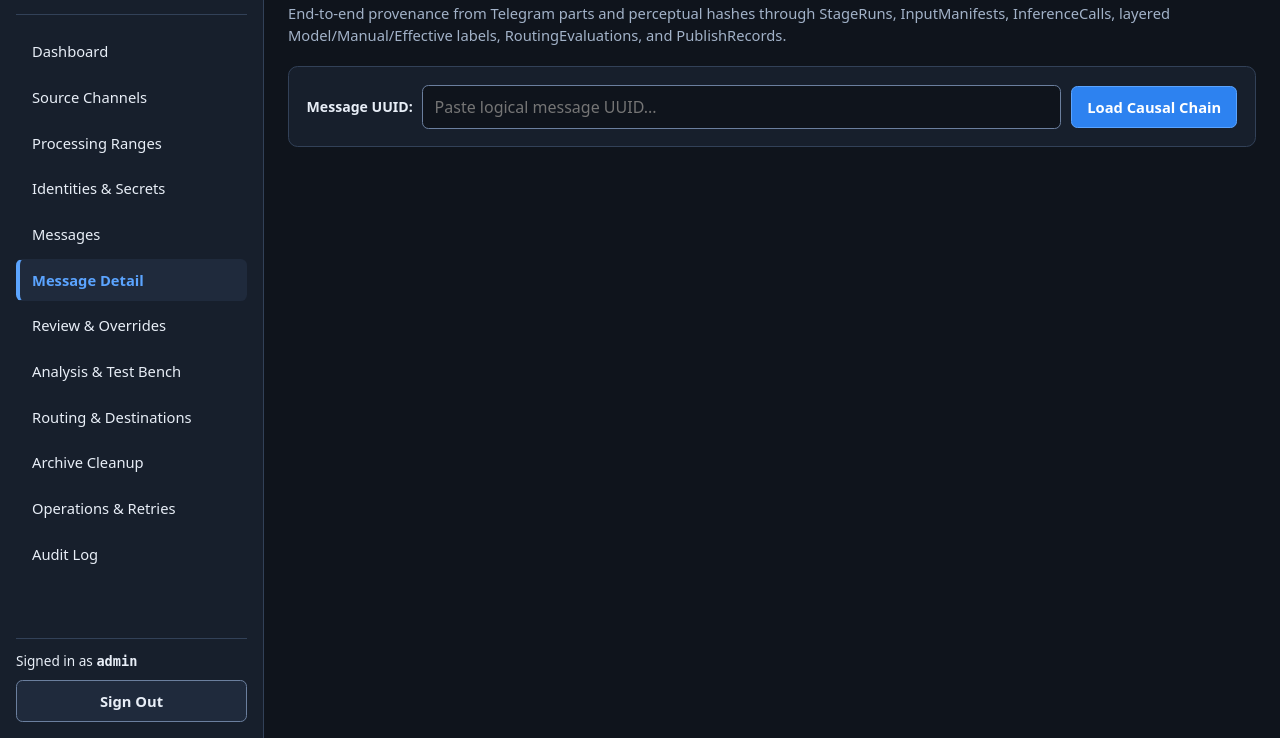
Test: Phase 2 Web & API Hardening Coverage › MessageDetailWorkspace performs a single detail fetch on lookup in App and disables Skip for processed messages
Type "00000000-0000-0000-0000-000000000001" into the field labelled "Message UUID:" at (742, 107), box [422,85,1061,129]
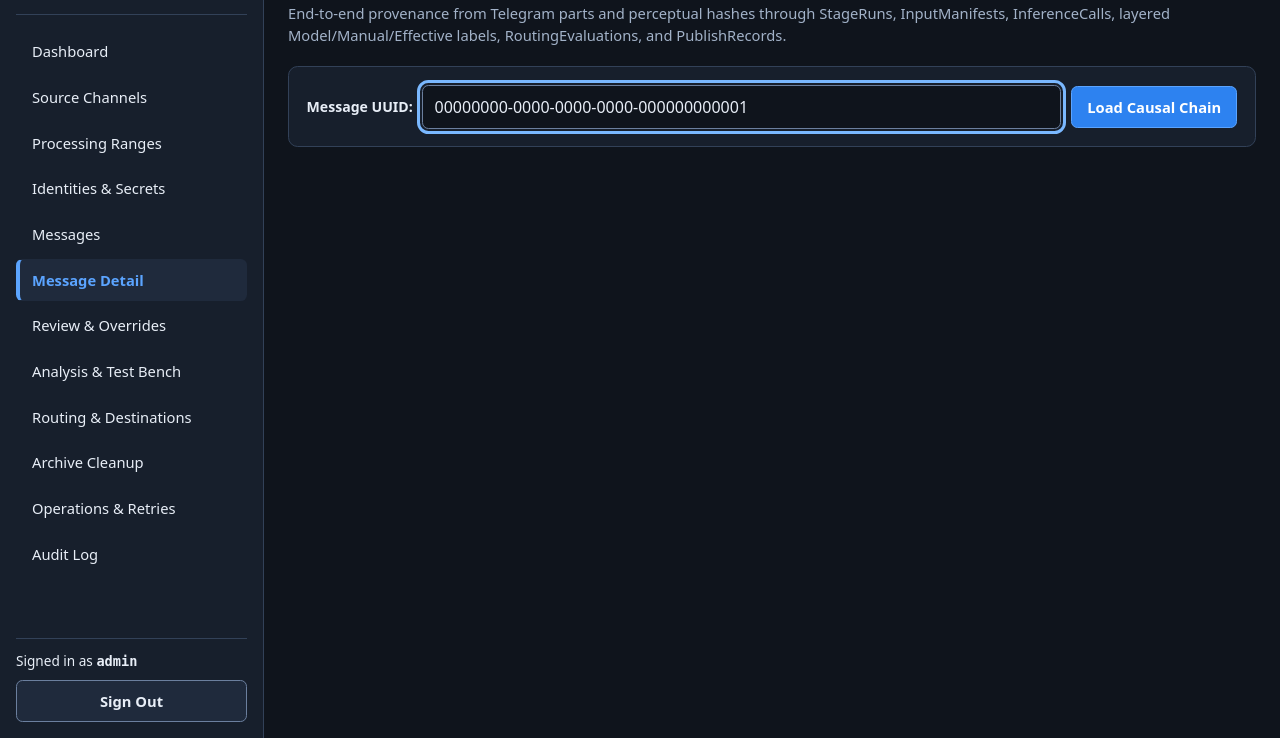
Click the button "Load Causal Chain" at (1154, 107), box [1071,86,1237,128]
(page scrolled)
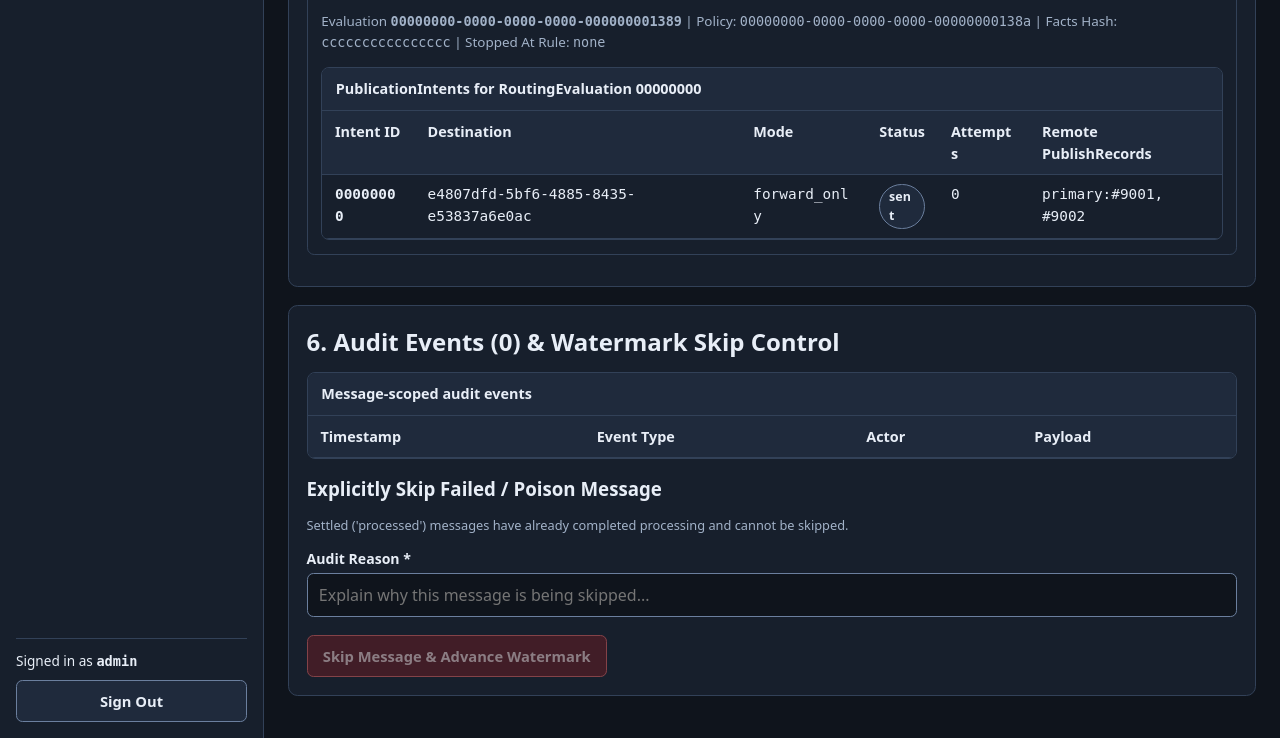
Expected: the button "Skip Message & Advance Watermark" is disabled, [307,635,607,677]
